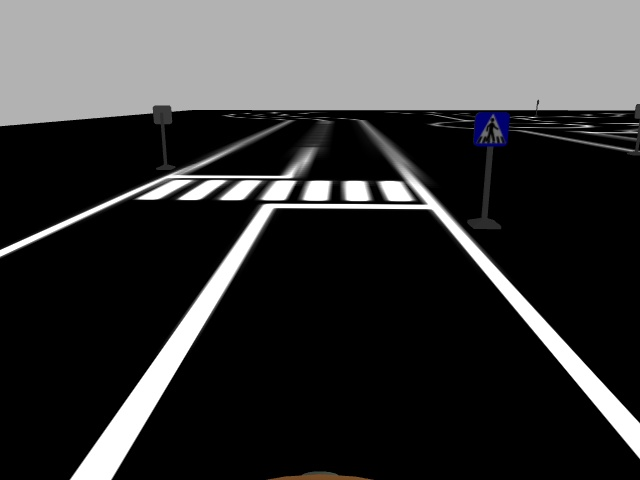crosswalk: (471, 109, 511, 150)
